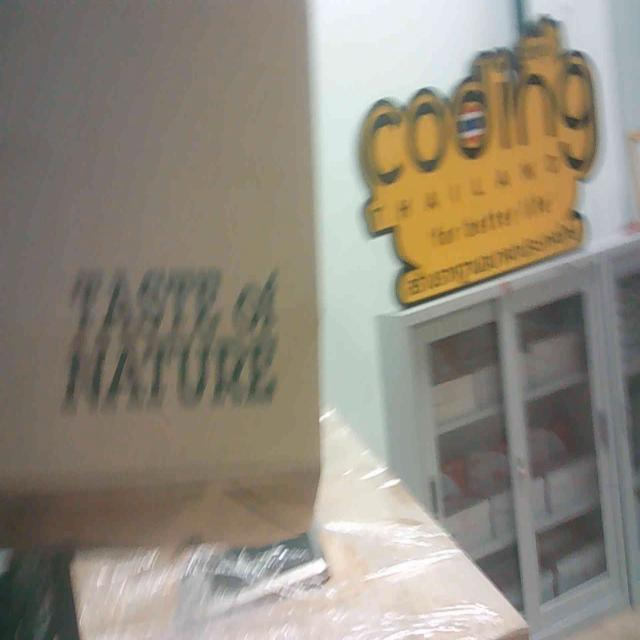bag: (0, 0, 325, 529)
